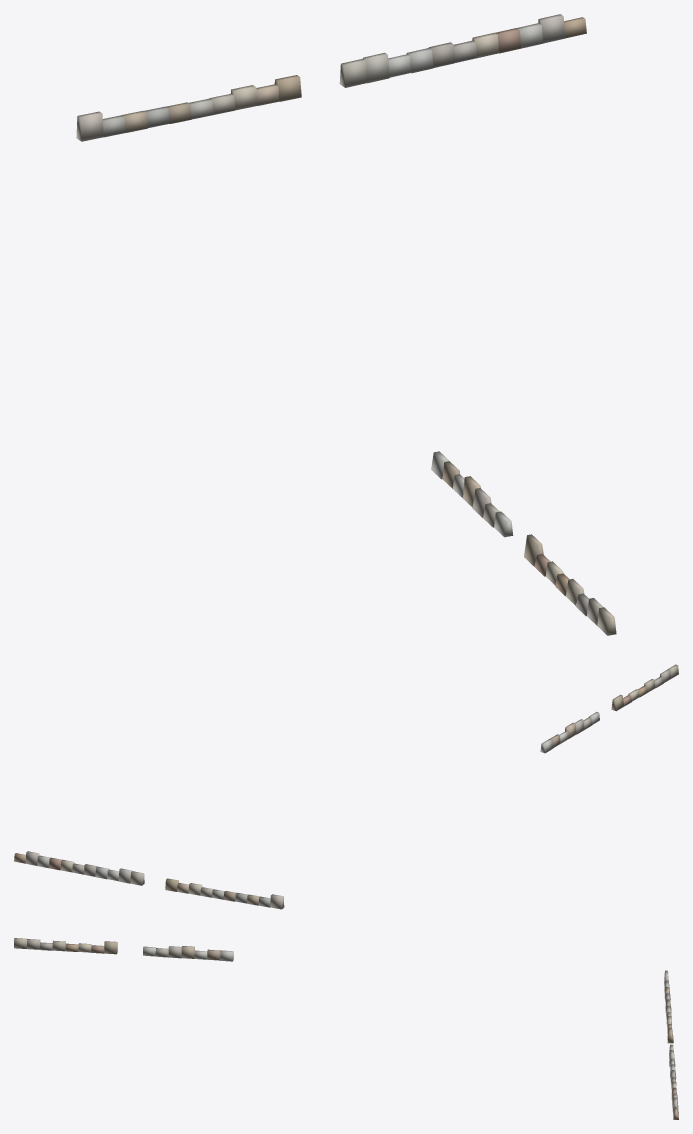
File: farm_17_22_collision.glb
3 views of the same model, one above another, from view 1: azimuth 30°, elevation 25°; view 2: azimuth 150°, elevation 25°; view 3: azimuth 270°, elevation 25° (orthographic). The views are drawn at different scales.
Visible parts, largest first — view 1: geometry_0; view 2: geometry_0; view 3: geometry_0.
Part boxes in pixels (bbox=[...]): geometry_0: bbox=[76, 14, 616, 635]; geometry_0: bbox=[14, 664, 678, 909]; geometry_0: bbox=[14, 938, 678, 1119].
Bounding box in the file's own units: 45.16 × 3.77 × 81.5.
